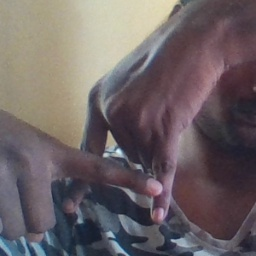H: (61, 103, 186, 237)
